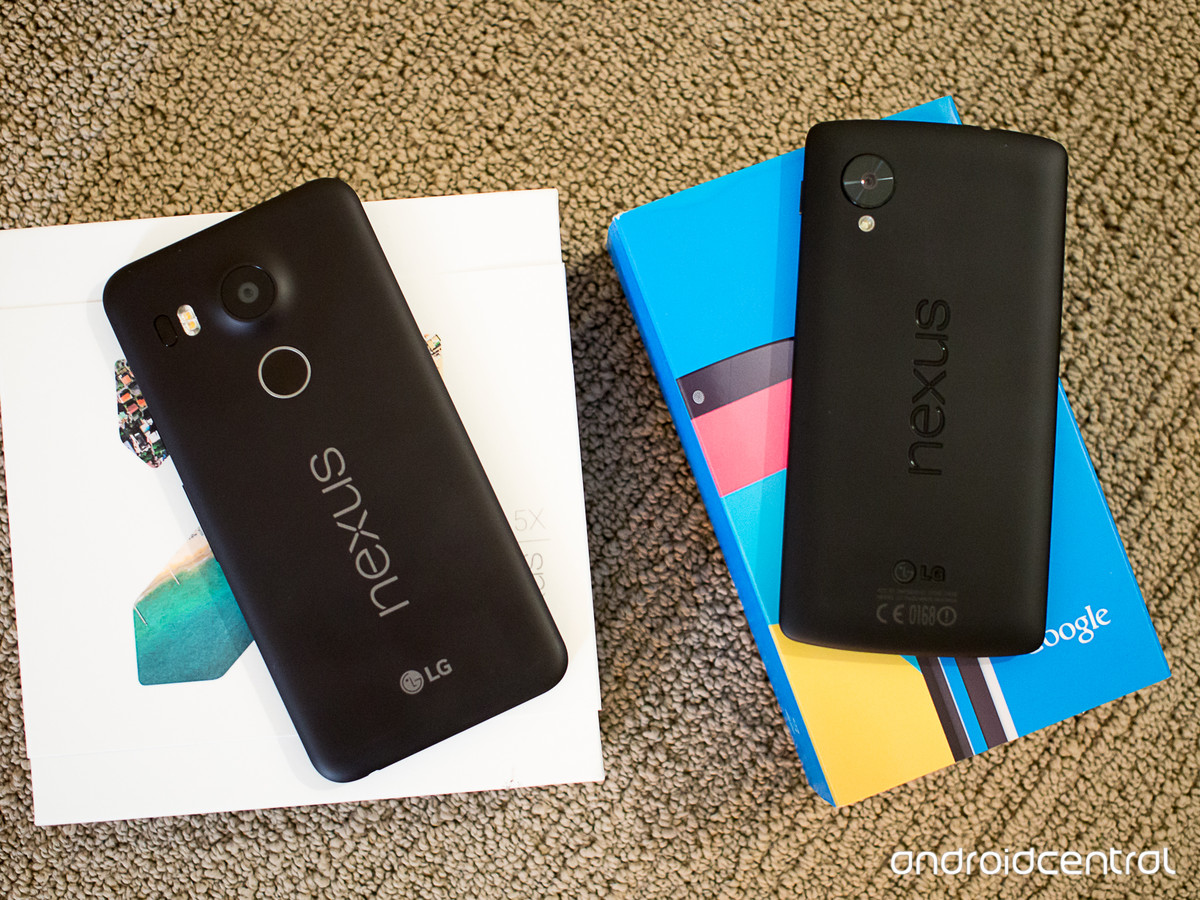smartphone: (102, 178, 568, 783), (777, 120, 1069, 658)
